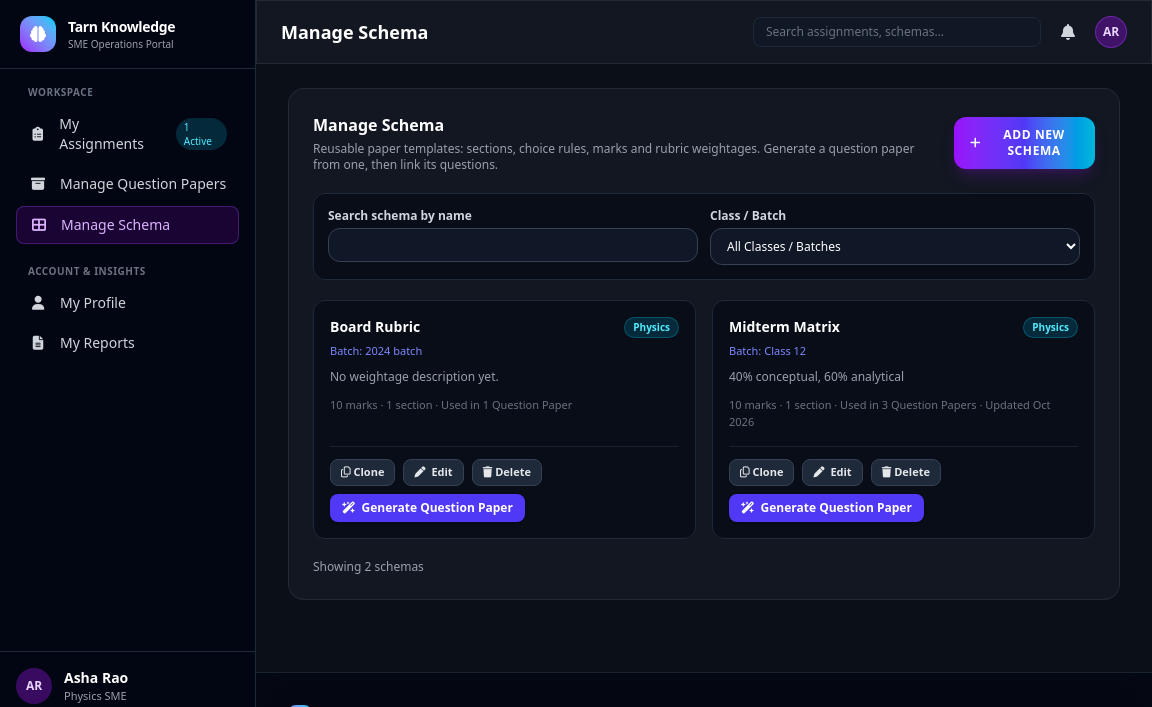
Scenario: Manage Schema › deletes a schema after the server allows it
The width and height of the screenshot is (1152, 707).
Click the button with aria-label "Delete Board Rubric" at (507, 472), box [472,459,542,486]
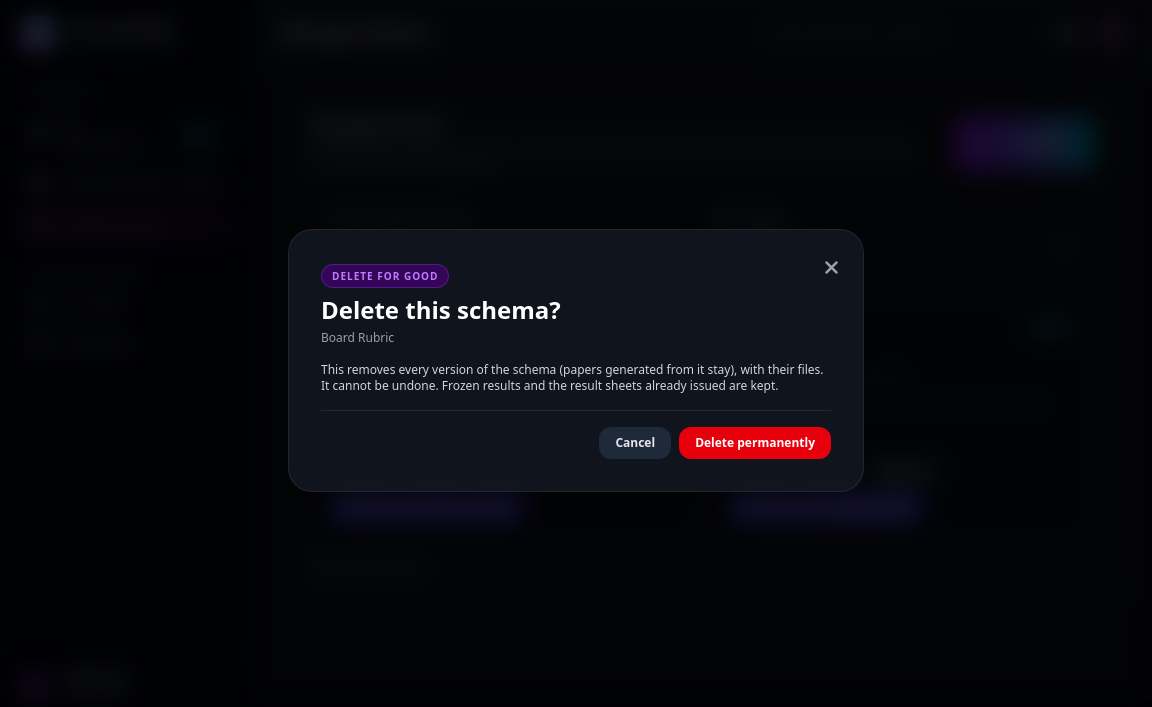
Expected: the dialog "Delete this schema?" shows "papers generated from it stay", [398,360,734,378]
Click the button "Delete permanently" at (755, 442), box [679,426,831,458]
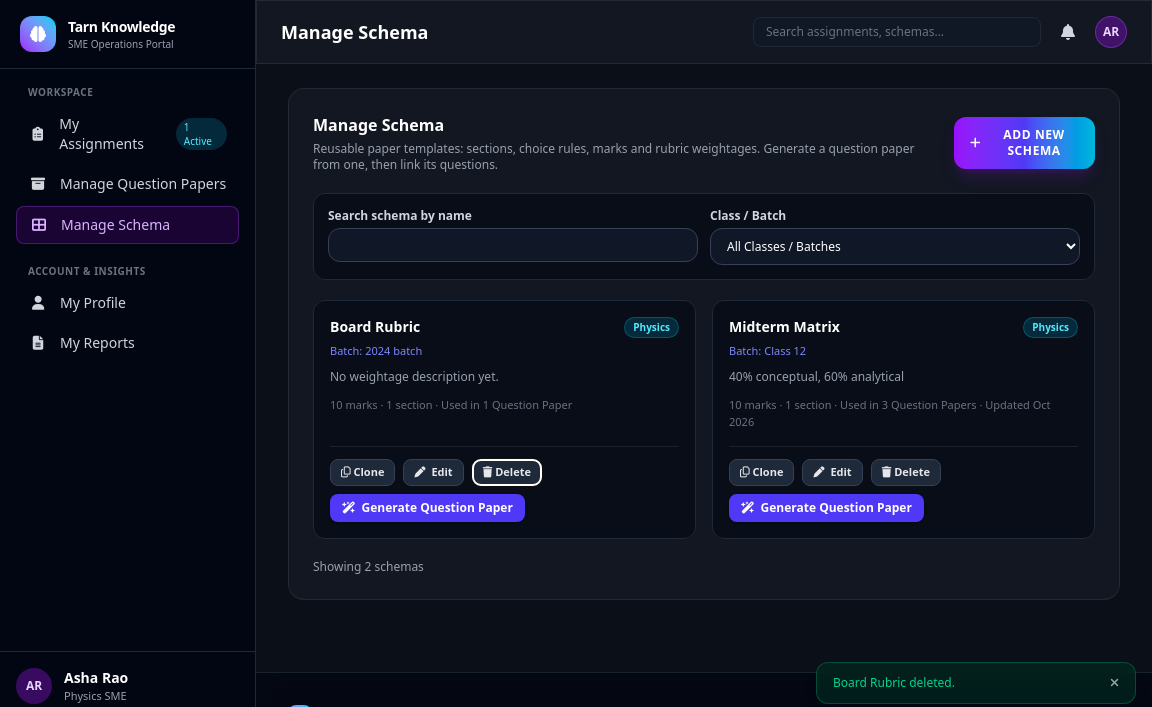
Expected: the text "Board Rubric deleted." is shown, [833,674,955,691]
